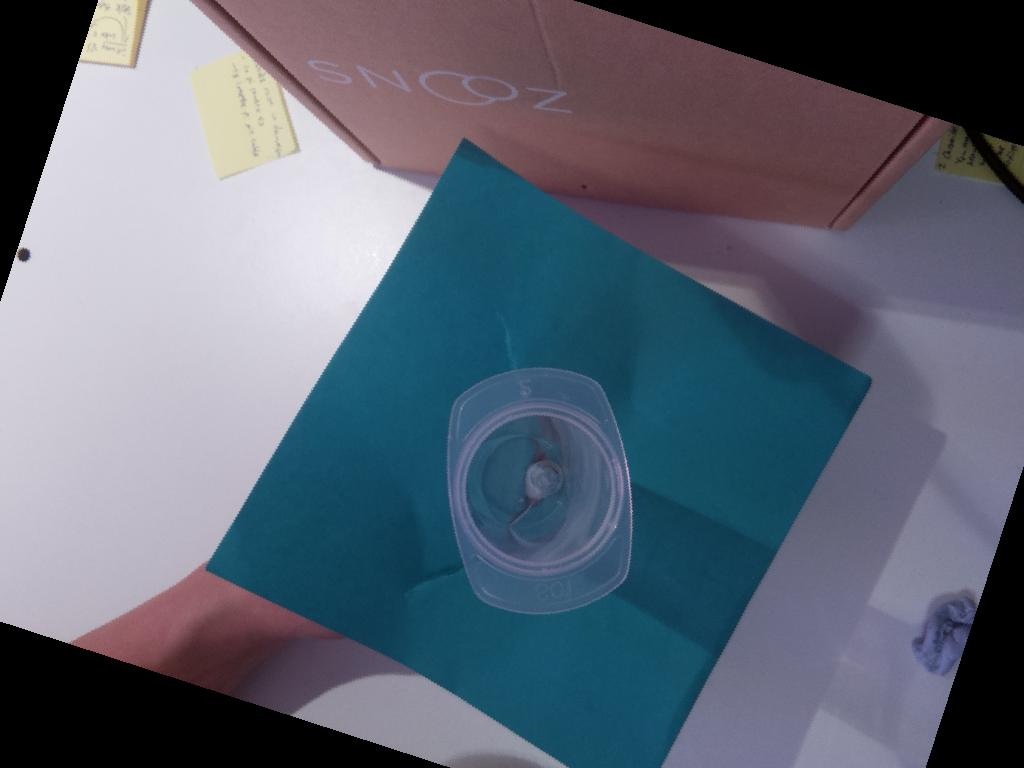clean: (440, 359, 643, 626)
